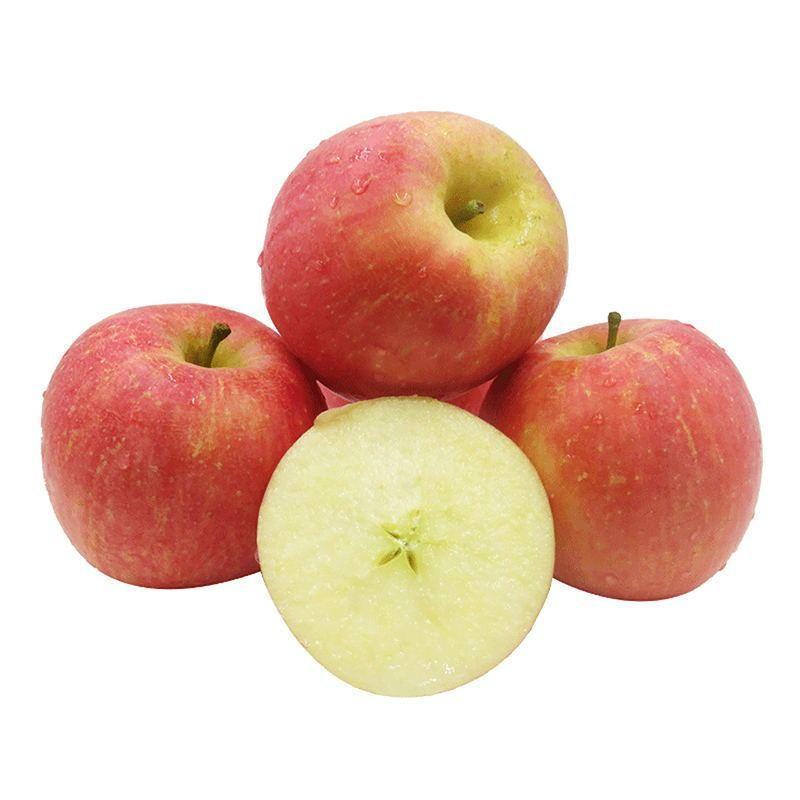apple: (259, 109, 570, 402), (478, 312, 761, 598), (43, 302, 321, 582)
